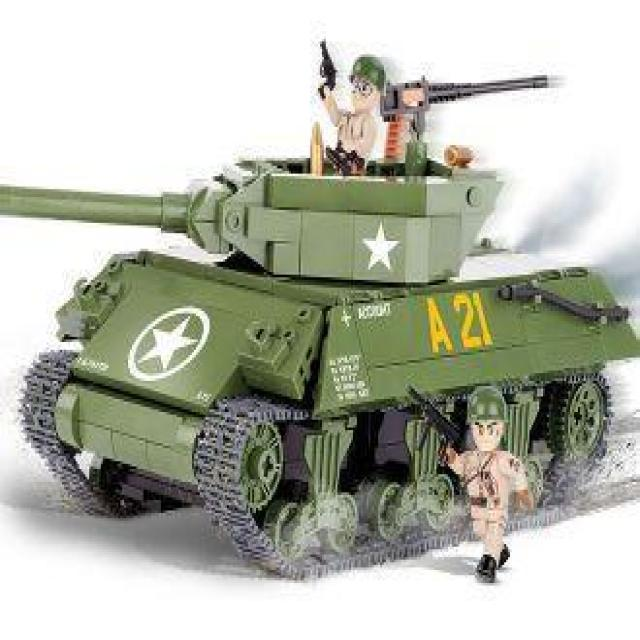Tanks: (45, 166, 626, 601)
